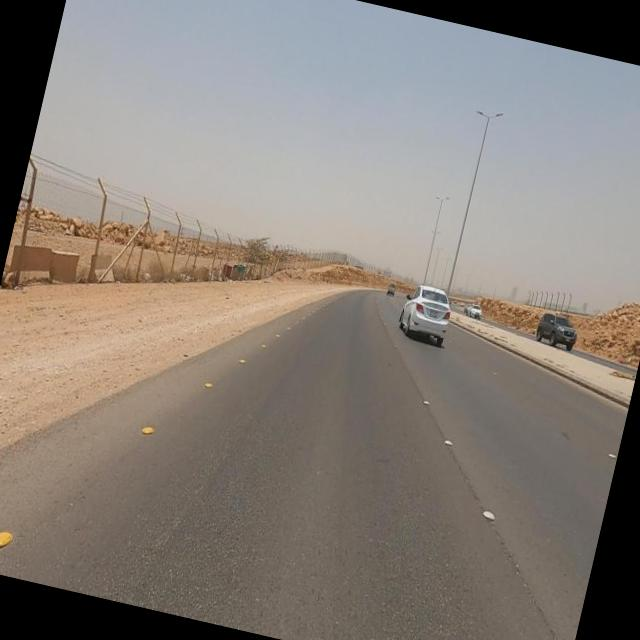debris: (206, 236, 268, 306)
